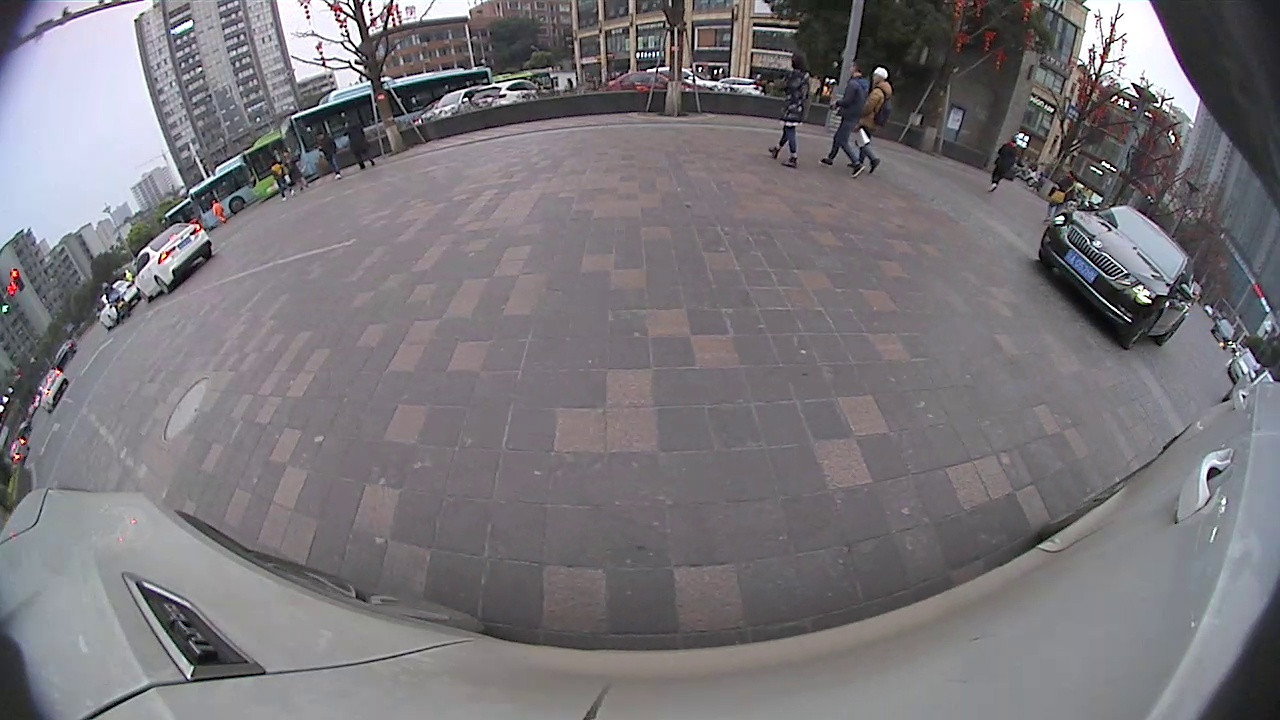bus: (278, 65, 493, 188), (242, 131, 286, 204)
car: (1037, 204, 1196, 351), (133, 220, 213, 305), (35, 368, 70, 414)
front: (1122, 309, 1163, 352)
person: (783, 50, 812, 169), (845, 58, 867, 170), (870, 67, 891, 177), (997, 137, 1019, 193), (1057, 170, 1077, 227)
